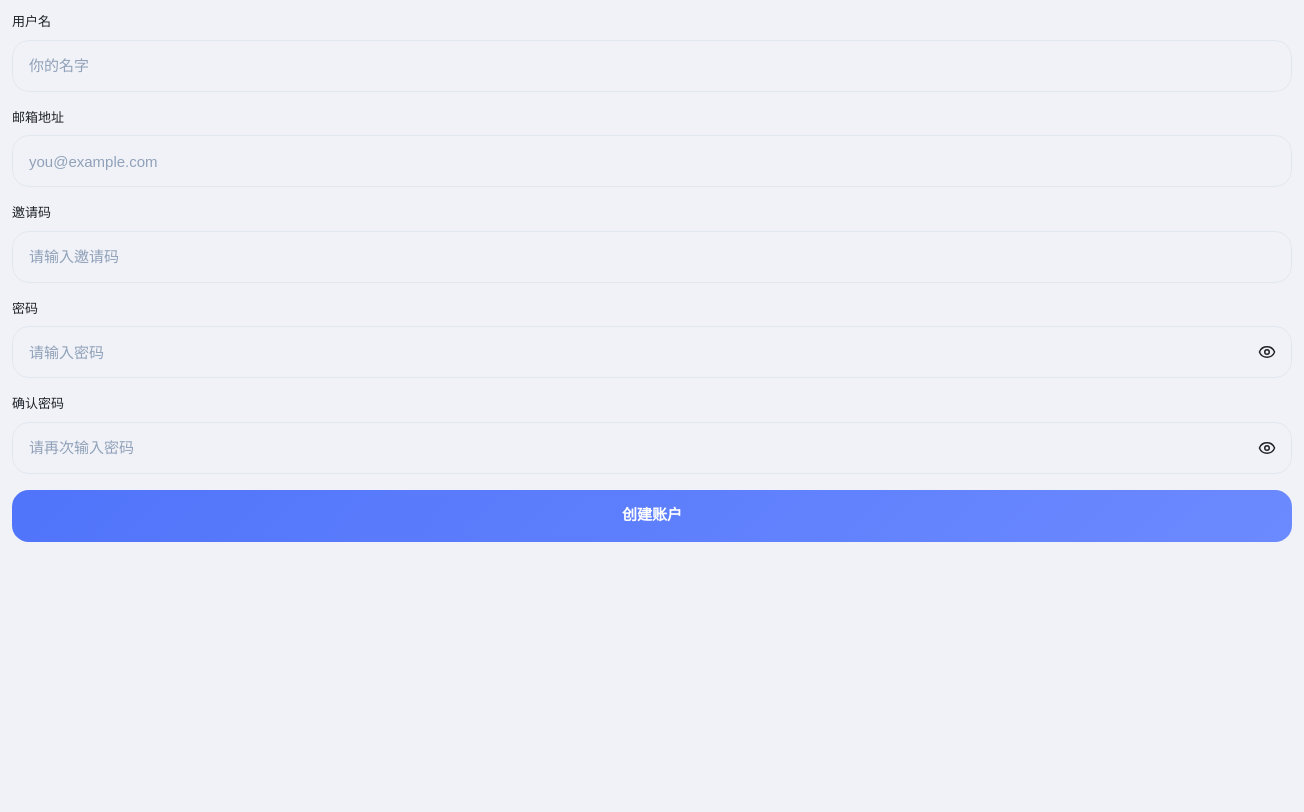
Scenario: auth components › RegisterForm › shows name validation error for empty name
The image size is (1304, 812).
Type "user@example.com" into the field with placeholder "you@example.com" at [652, 161], box [12,135,1292,187]
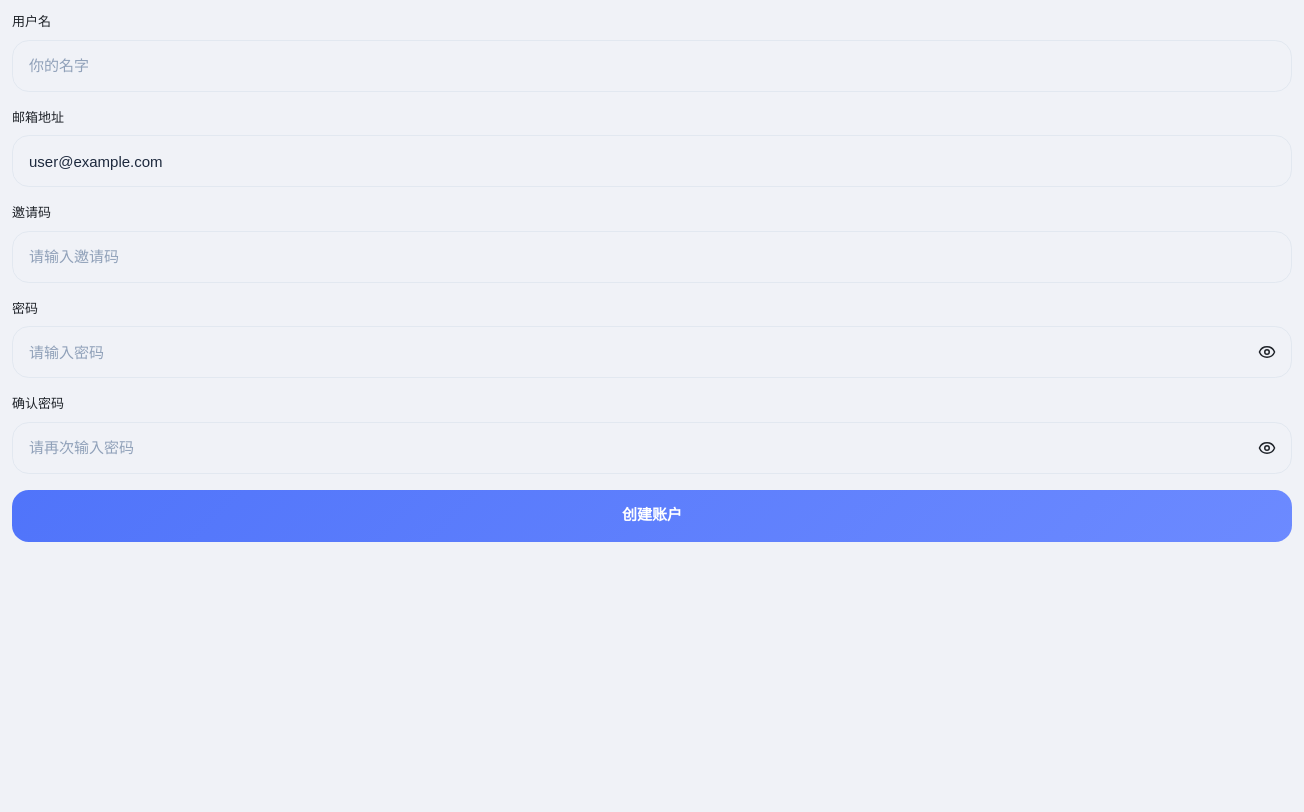
Type "password123" into the password field with placeholder "请输入密码" at [652, 352], box [12,326,1292,378]
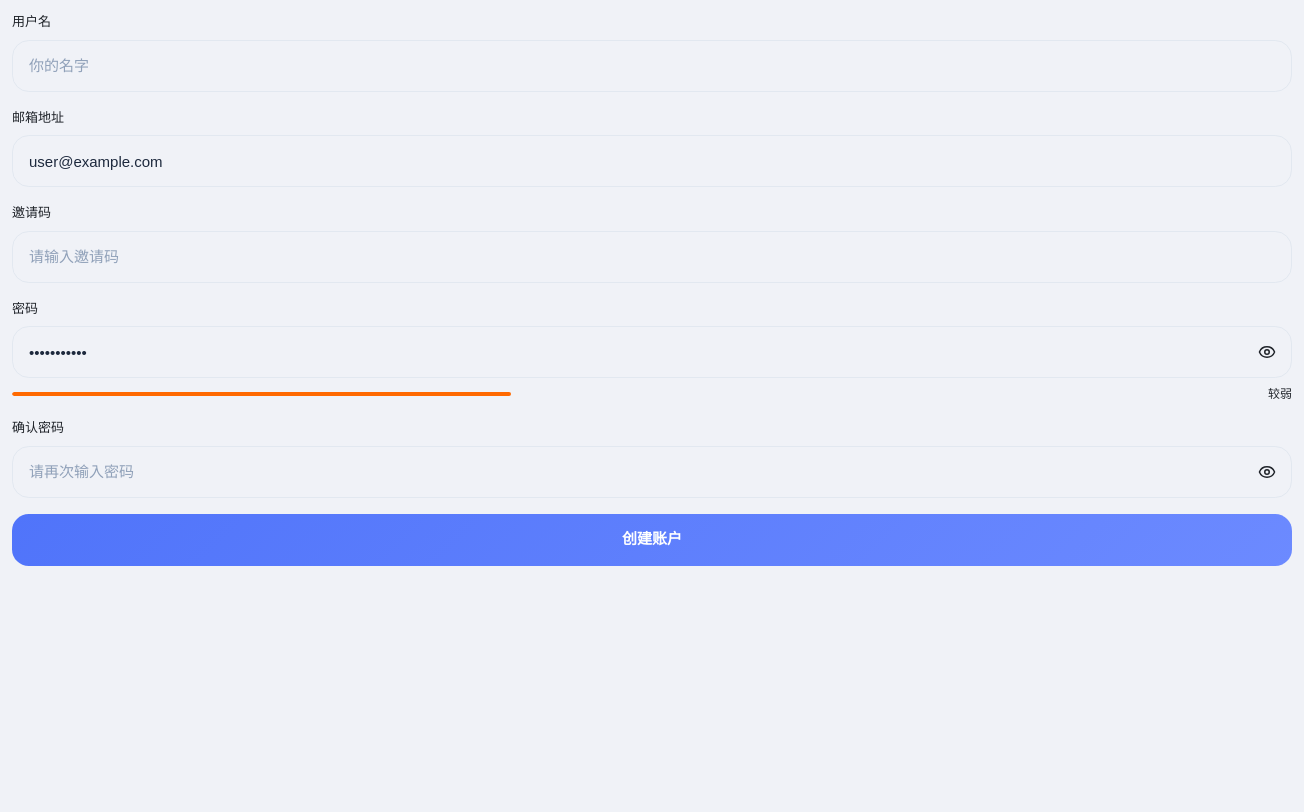
Type "password123" into the password field with placeholder "请再次输入密码" at [652, 472], box [12,446,1292,498]
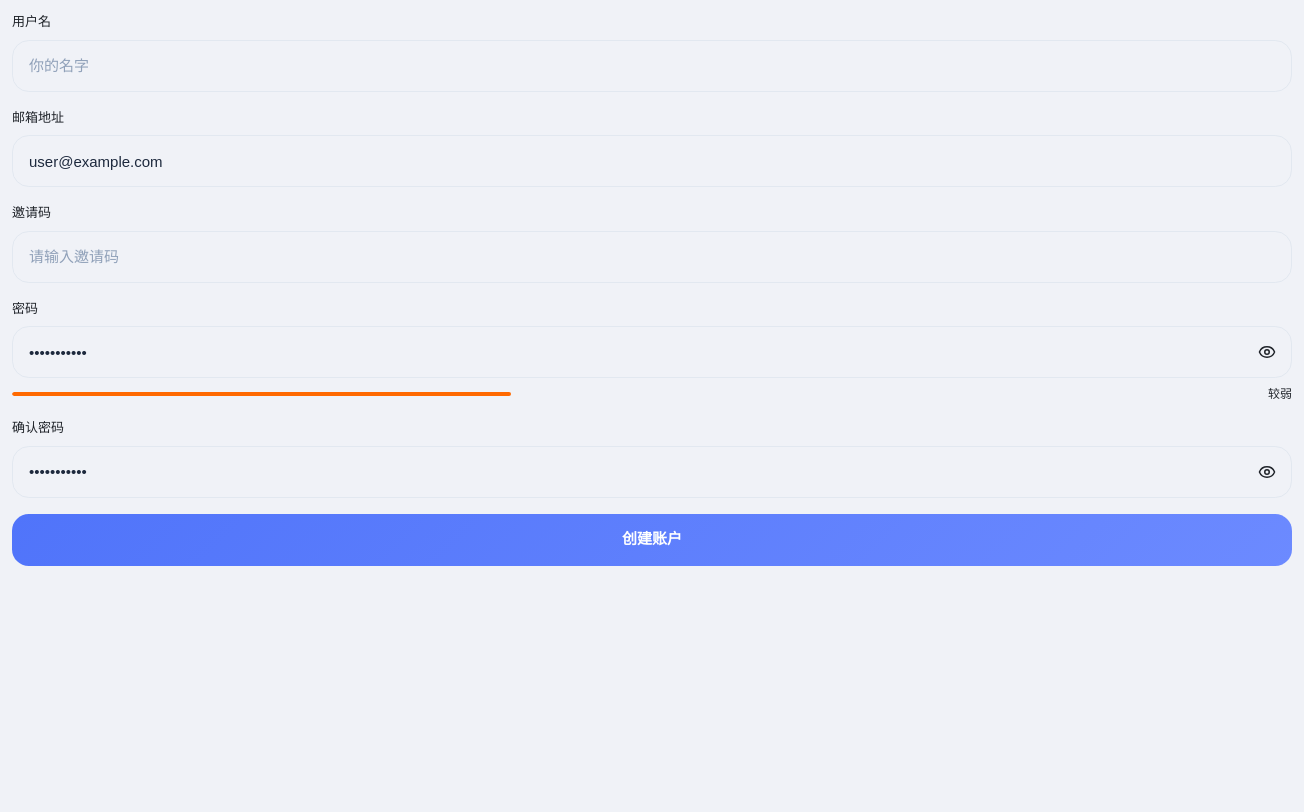
Submit the form with placeholder "you@example.com"
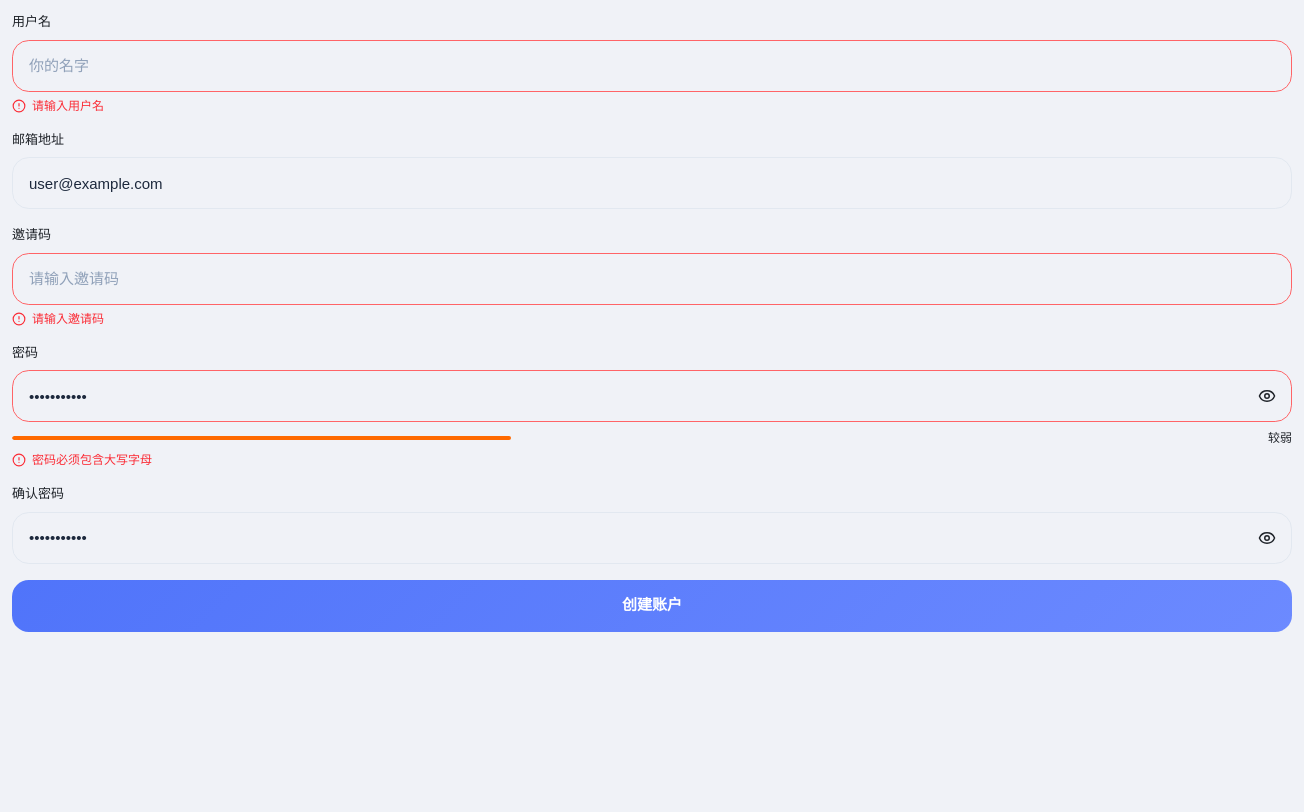
Check: the text "请输入用户名" is shown, box [12,98,104,112]
